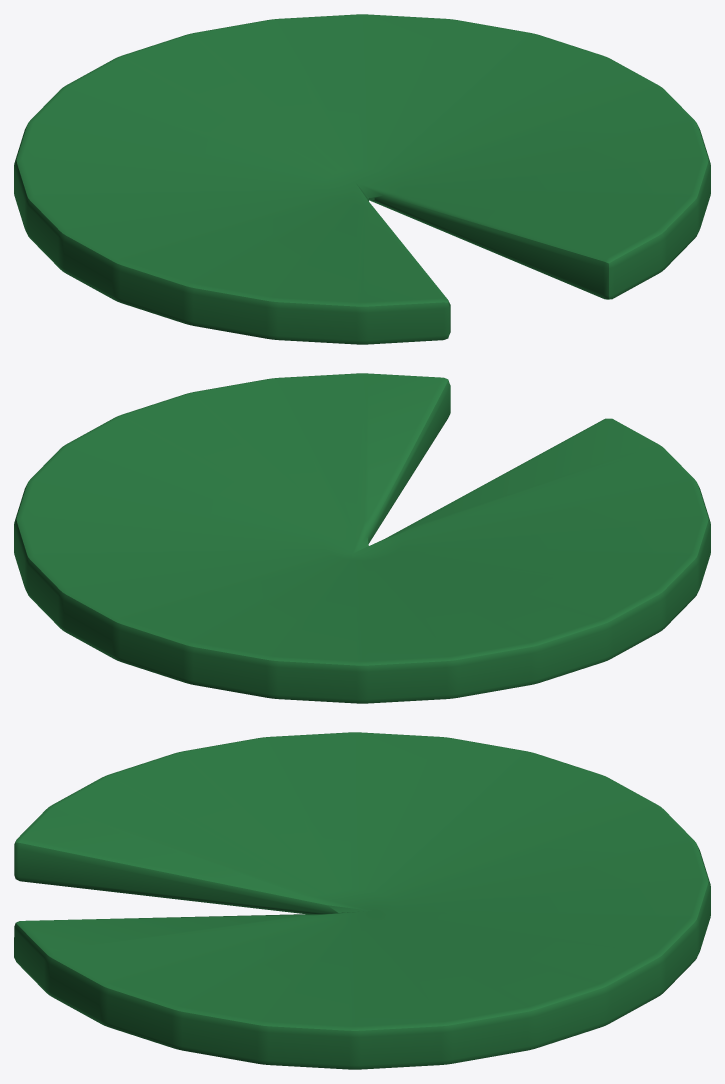
The model's file is Lilypad.fbx.
3 views of the same model, one above another, from view 1: azimuth 30°, elevation 25°; view 2: azimuth 150°, elevation 25°; view 3: azimuth 270°, elevation 25° (orthographic). The views are drawn at different scales.
Visible parts, largest first — view 1: Lilypad; view 2: Lilypad; view 3: Lilypad.
Part boxes in pixels (x1,y1,x2,y2): Lilypad: (14,14,710,344); Lilypad: (14,373,710,703); Lilypad: (14,732,710,1069).
Bounding box in the file's own units: 15.46 × 1.04 × 15.14.
